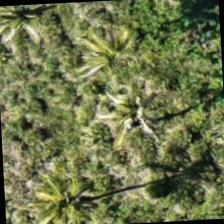Kelapa_Sawit: (66, 64, 162, 160), (60, 7, 156, 102), (0, 2, 66, 65)
